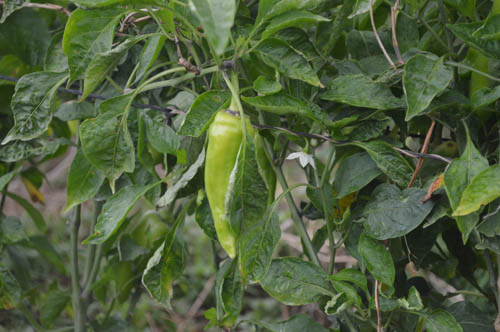ChiliPepper: (205, 111, 250, 256)
